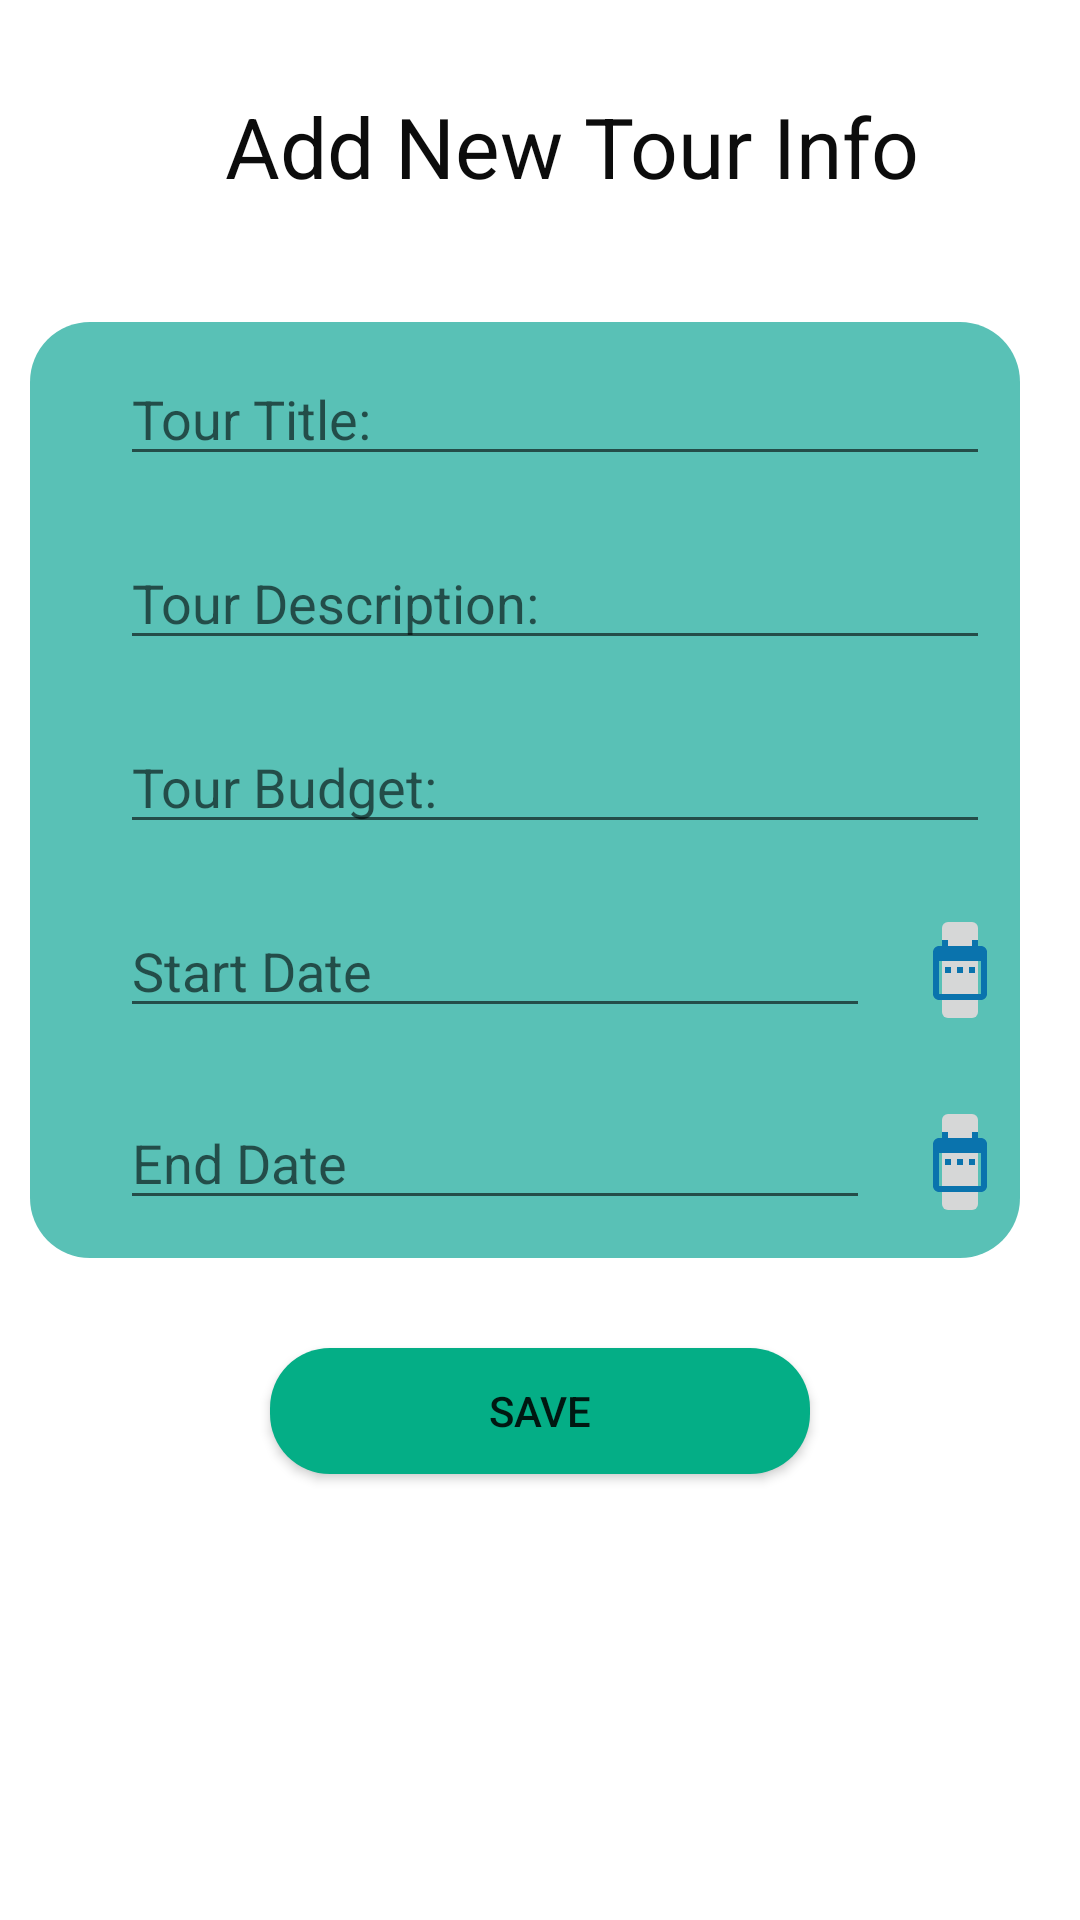

Screen size 1080 x 1920. Icon name, then its box in pixels as {"left": x1, "top": y1, "right": x2, "bottom": y2}:
date range: {"left": 933, "top": 922, "right": 987, "bottom": 1018}, {"left": 933, "top": 1114, "right": 987, "bottom": 1210}
